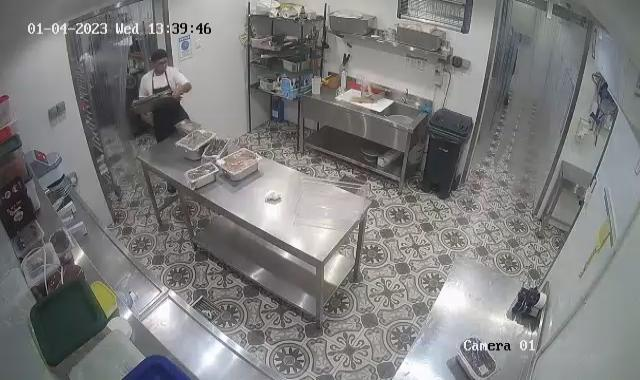no_hairnet: (150, 48, 170, 71)
